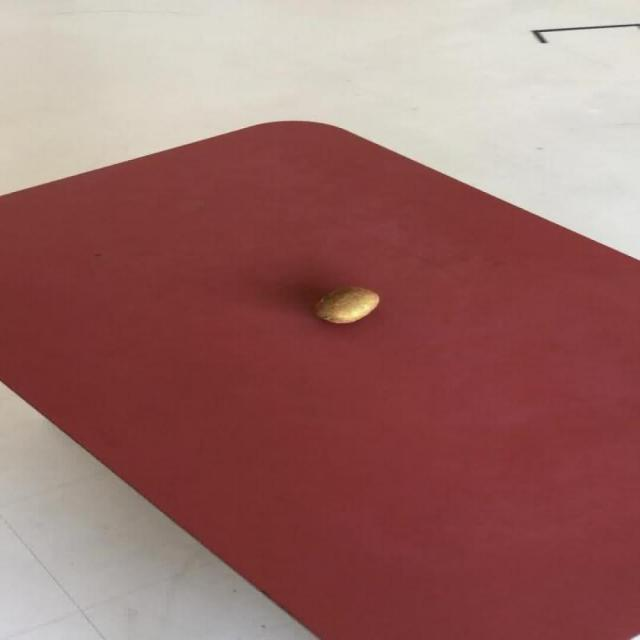Kiwi: (312, 286, 379, 324)
